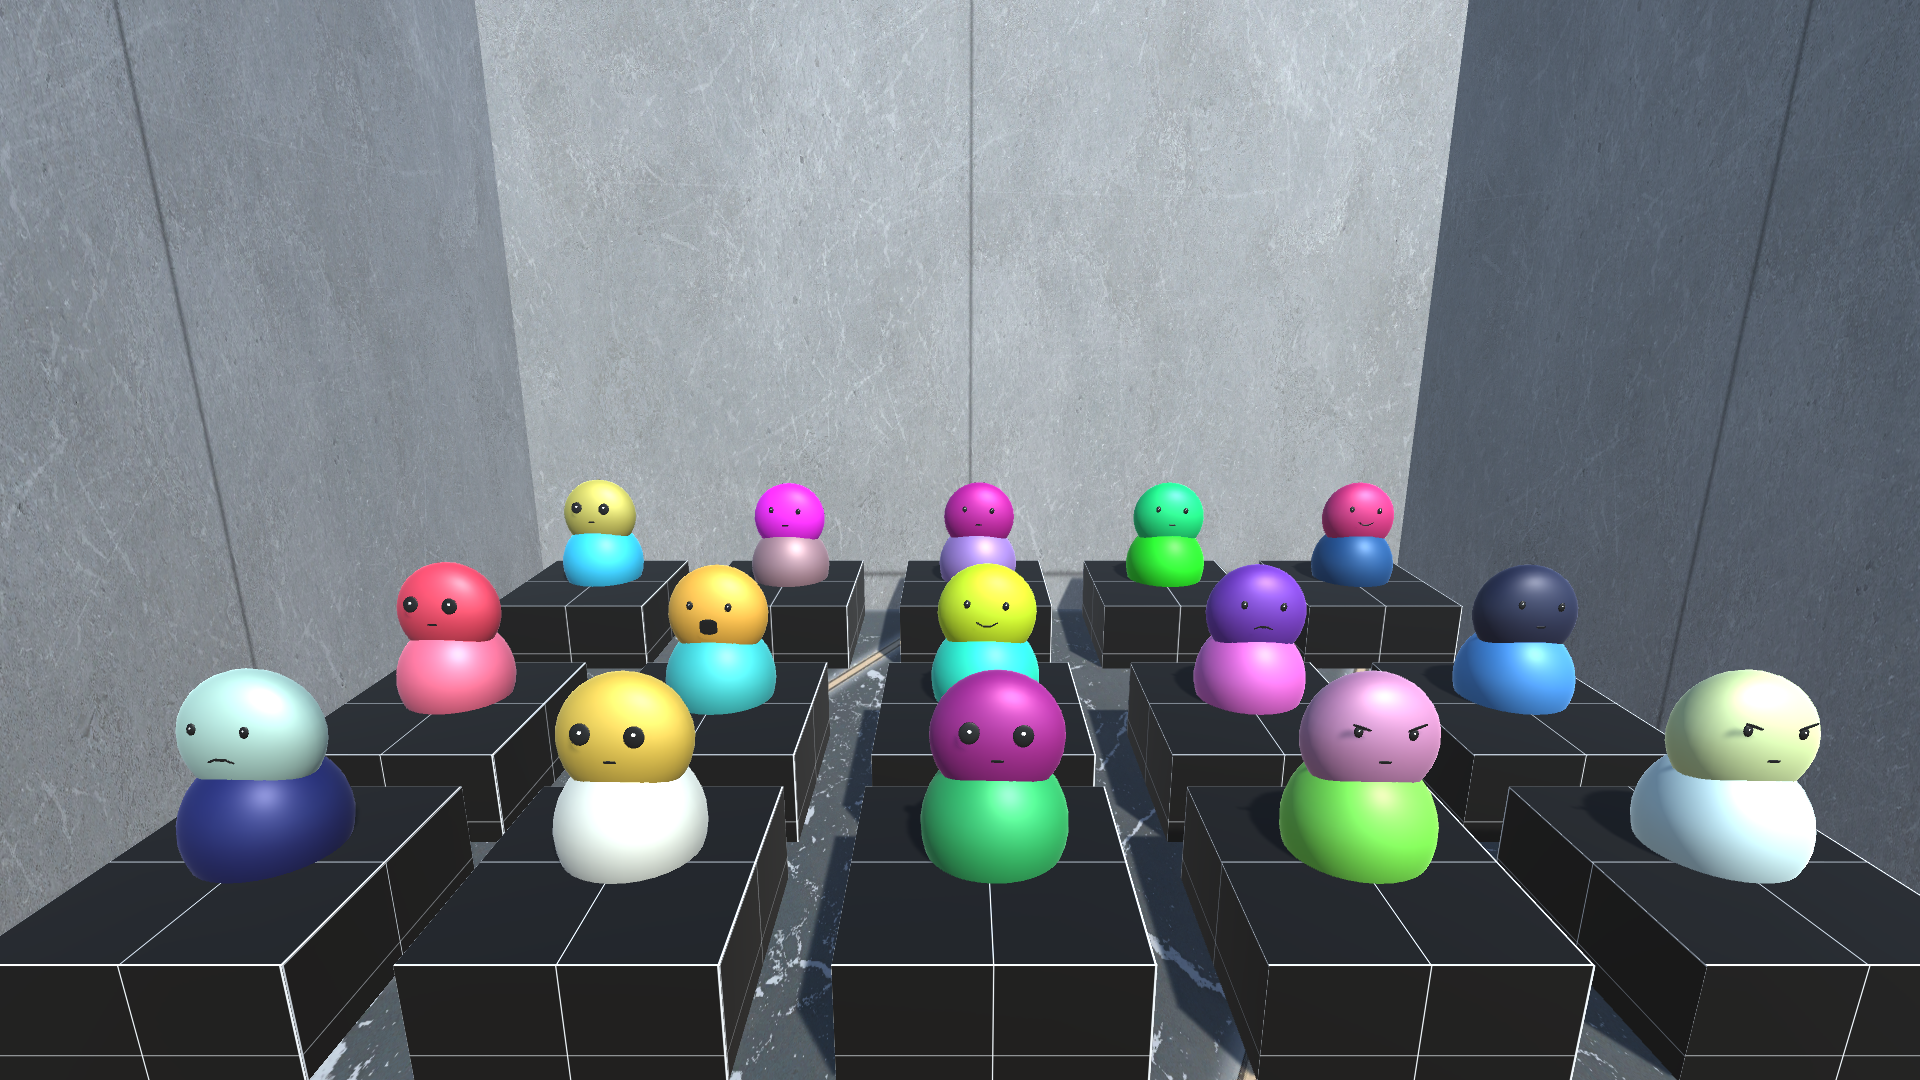blob_atento: (550, 670, 709, 884), (919, 674, 1071, 884), (393, 560, 526, 720), (560, 477, 650, 587)
blob_dormindo: (659, 563, 785, 727)
blob_feliz: (927, 560, 1048, 705), (1311, 480, 1399, 597)
blob_normal: (177, 665, 360, 876), (1193, 564, 1304, 723)
blob_surpreso: (1629, 666, 1826, 889), (1273, 669, 1444, 890)
blob_triste: (1455, 560, 1581, 724), (1127, 480, 1207, 597), (938, 480, 1025, 585), (750, 481, 833, 589)
